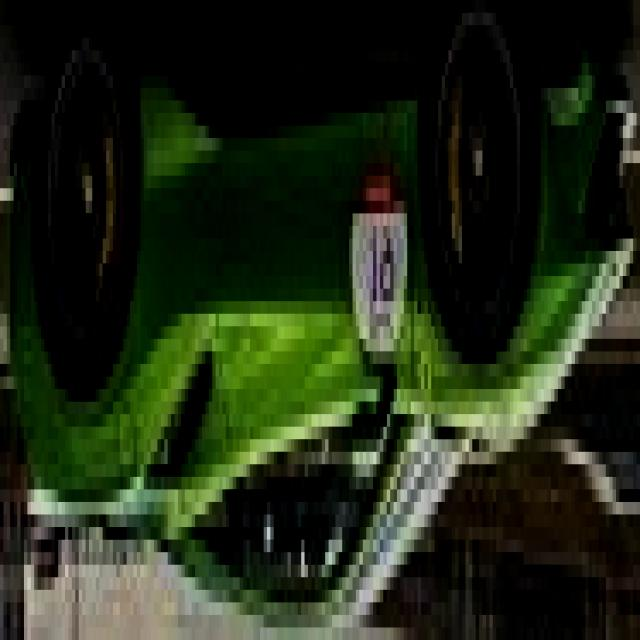green: (9, 13, 636, 640)
